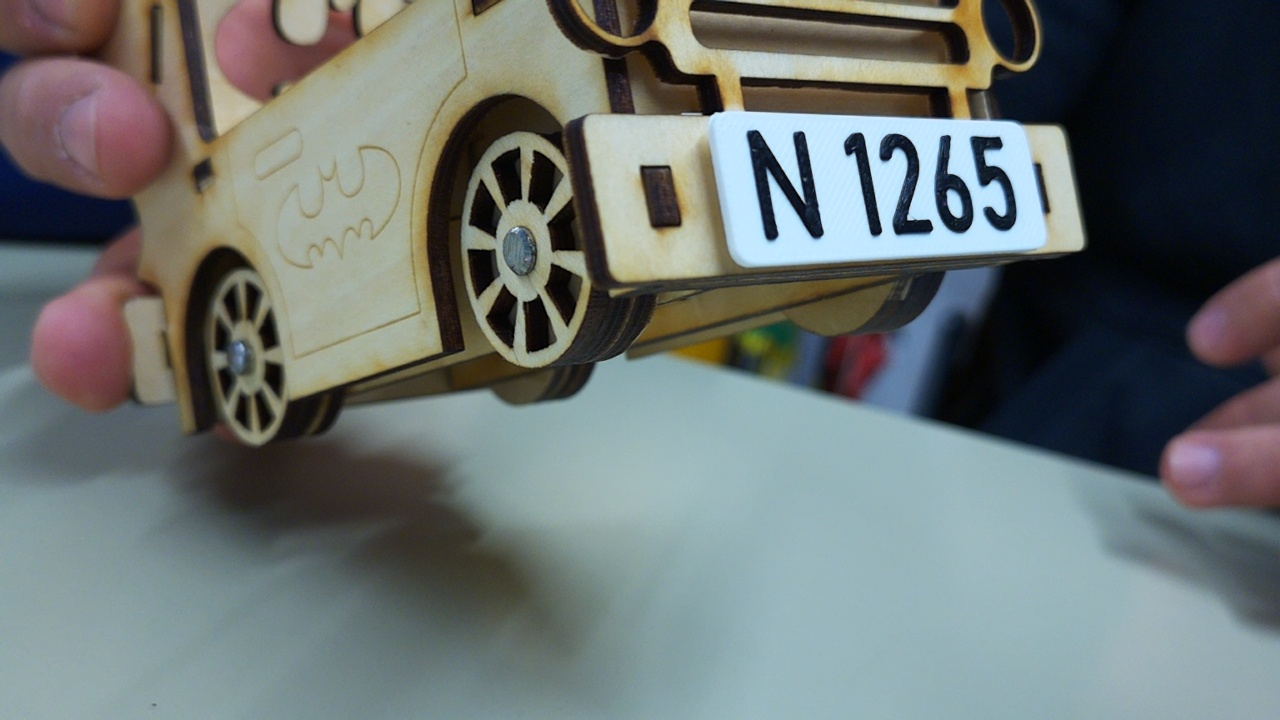license_plate: (707, 107, 1048, 270)
